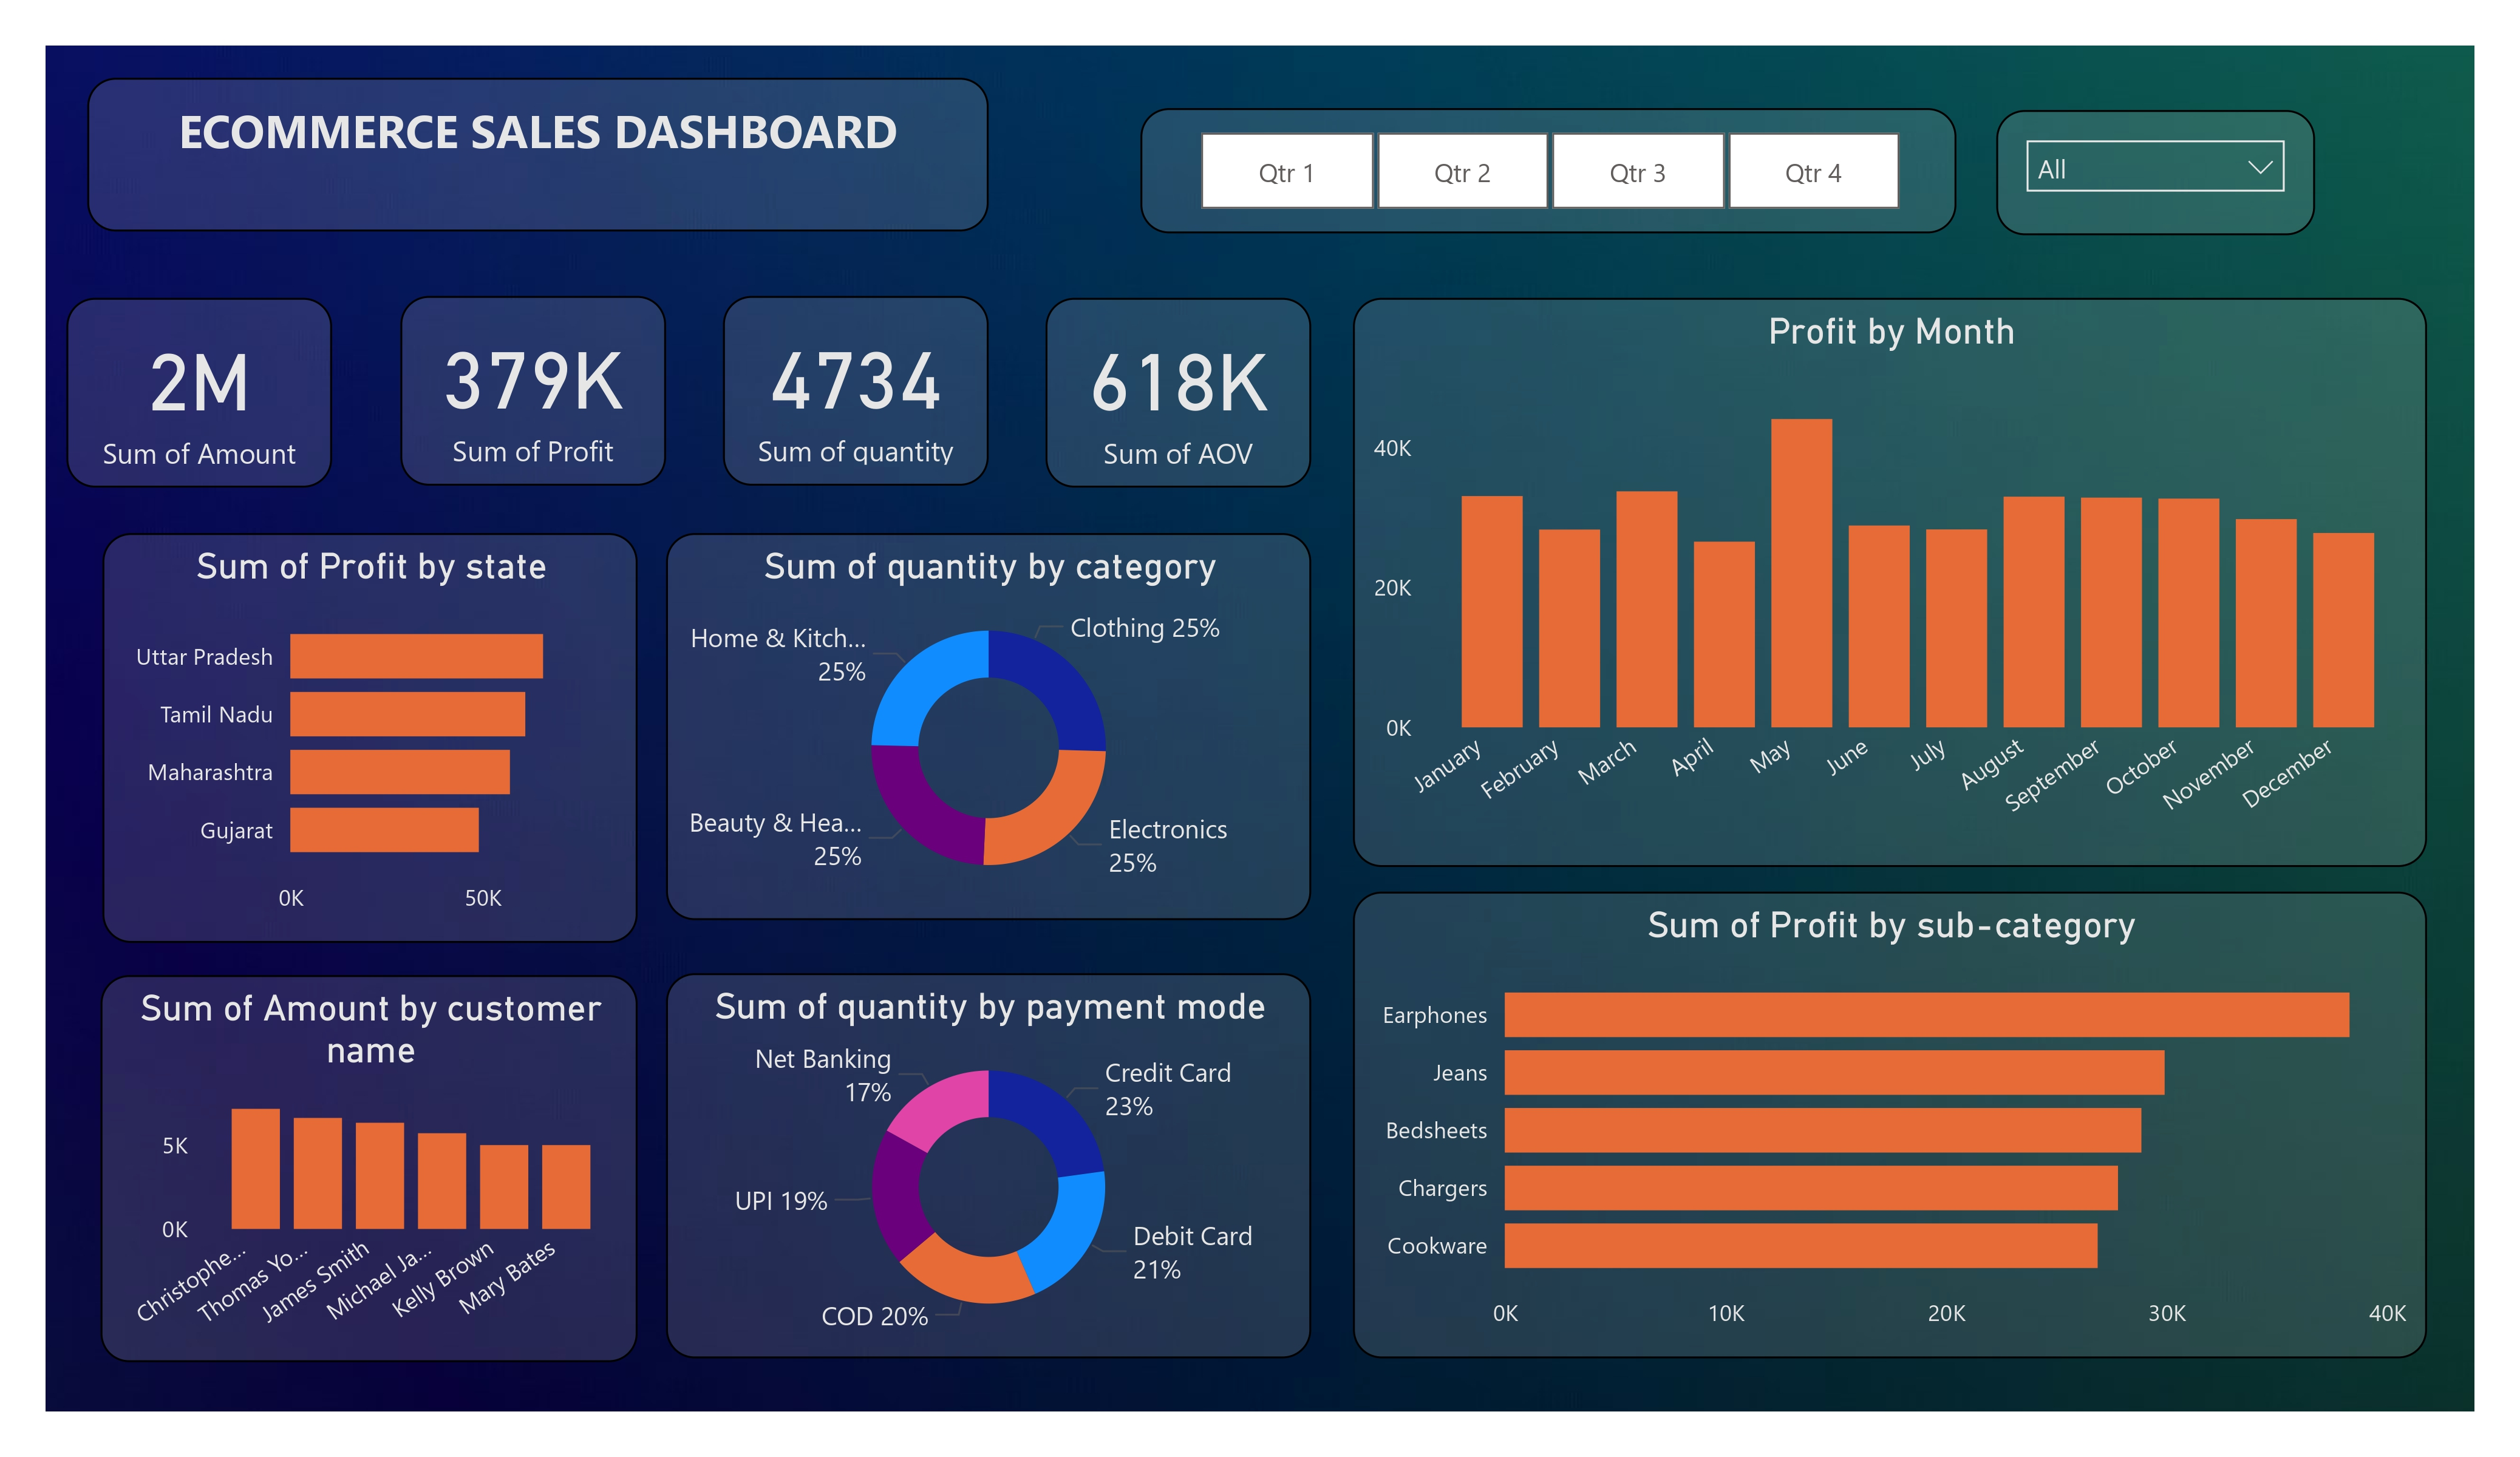

What the dashboard file says about the page in this screenshot:
{"tool":"powerbi","page":{"name":"Page 1","canvas":[1280,720],"ordinal":0},"visuals":[{"type":"textbox","box":[21.7,16.9,475.3,80.8],"z":0},{"type":"columnChart","title":"Profit by Month","fields":{"Category":["Orders.order date.Variation.Date Hierarchy.Month"],"Y":["Sum(Details.Profit)"]},"box":[688.9,132.7,565.8,300.4],"z":1000},{"type":"barChart","fields":{"Category":["Details.sub-category"],"Y":["Sum(Details.Profit)"]},"box":[688.9,446.4,565.8,246.1],"z":2000},{"type":"donutChart","fields":{"Category":["Details.category"],"Y":["Sum(Details.quantity)"]},"box":[326.9,257,340.2,203.9],"z":3000},{"type":"donutChart","fields":{"Category":["Details.payment mode"],"Y":["Sum(Details.quantity)"]},"box":[326.9,488.6,340.2,203.9],"z":4000},{"type":"card","fields":{"Values":["Sum(Details.Amount)"]},"box":[10.9,132.7,140,100],"z":5000},{"type":"card","fields":{"Values":["Sum(Details.Profit)"]},"box":[187,131.5,139.9,100.1],"z":6000},{"type":"card","fields":{"Values":["Sum(Details.quantity)"]},"box":[357.1,131.5,139.9,100.1],"z":7000},{"type":"card","fields":{"Values":["Sum(Details.AOV)"]},"box":[527.2,132.7,139.9,100.1],"z":8000},{"type":"barChart","fields":{"Y":["Sum(Details.Profit)"],"Category":["Orders.state"]},"box":[30.2,257,282.3,216],"z":9000},{"type":"columnChart","fields":{"Category":["Orders.customer name"],"Y":["Sum(Details.Amount)"]},"box":[29,489.8,283.5,203.9],"z":10000},{"type":"slicer","fields":{"Values":["Orders.order date.Variation.Date Hierarchy.Quarter"]},"box":[576.7,32.6,430.7,66.4],"z":11000},{"type":"slicer","fields":{"Values":["Orders.state"]},"box":[1027.9,33.8,167.7,66.4],"z":12000}]}

Visuals, with their boxes on the page's 1280x720 design canvas (x1, y1, x2, y2). These are canvas units, not pixel positions in the 2520x1457 screenshot, which may show the page scaled, cropped or inside an application window:
textbox: bbox=(22, 17, 497, 98)
"Profit by Month" columnChart: bbox=(689, 133, 1255, 433)
barChart - Details.sub-category x Sum(Details.Profit): bbox=(689, 446, 1255, 692)
donutChart - Details.category x Sum(Details.quantity): bbox=(327, 257, 667, 461)
donutChart - Details.payment mode x Sum(Details.quantity): bbox=(327, 489, 667, 692)
card - Sum(Details.Amount): bbox=(11, 133, 151, 233)
card - Sum(Details.Profit): bbox=(187, 132, 327, 232)
card - Sum(Details.quantity): bbox=(357, 132, 497, 232)
card - Sum(Details.AOV): bbox=(527, 133, 667, 233)
barChart - Sum(Details.Profit) x Orders.state: bbox=(30, 257, 312, 473)
columnChart - Orders.customer name x Sum(Details.Amount): bbox=(29, 490, 312, 694)
slicer - Orders.order date.Variation.Date Hierarchy.Quarter: bbox=(577, 33, 1007, 99)
slicer - Orders.state: bbox=(1028, 34, 1196, 100)
